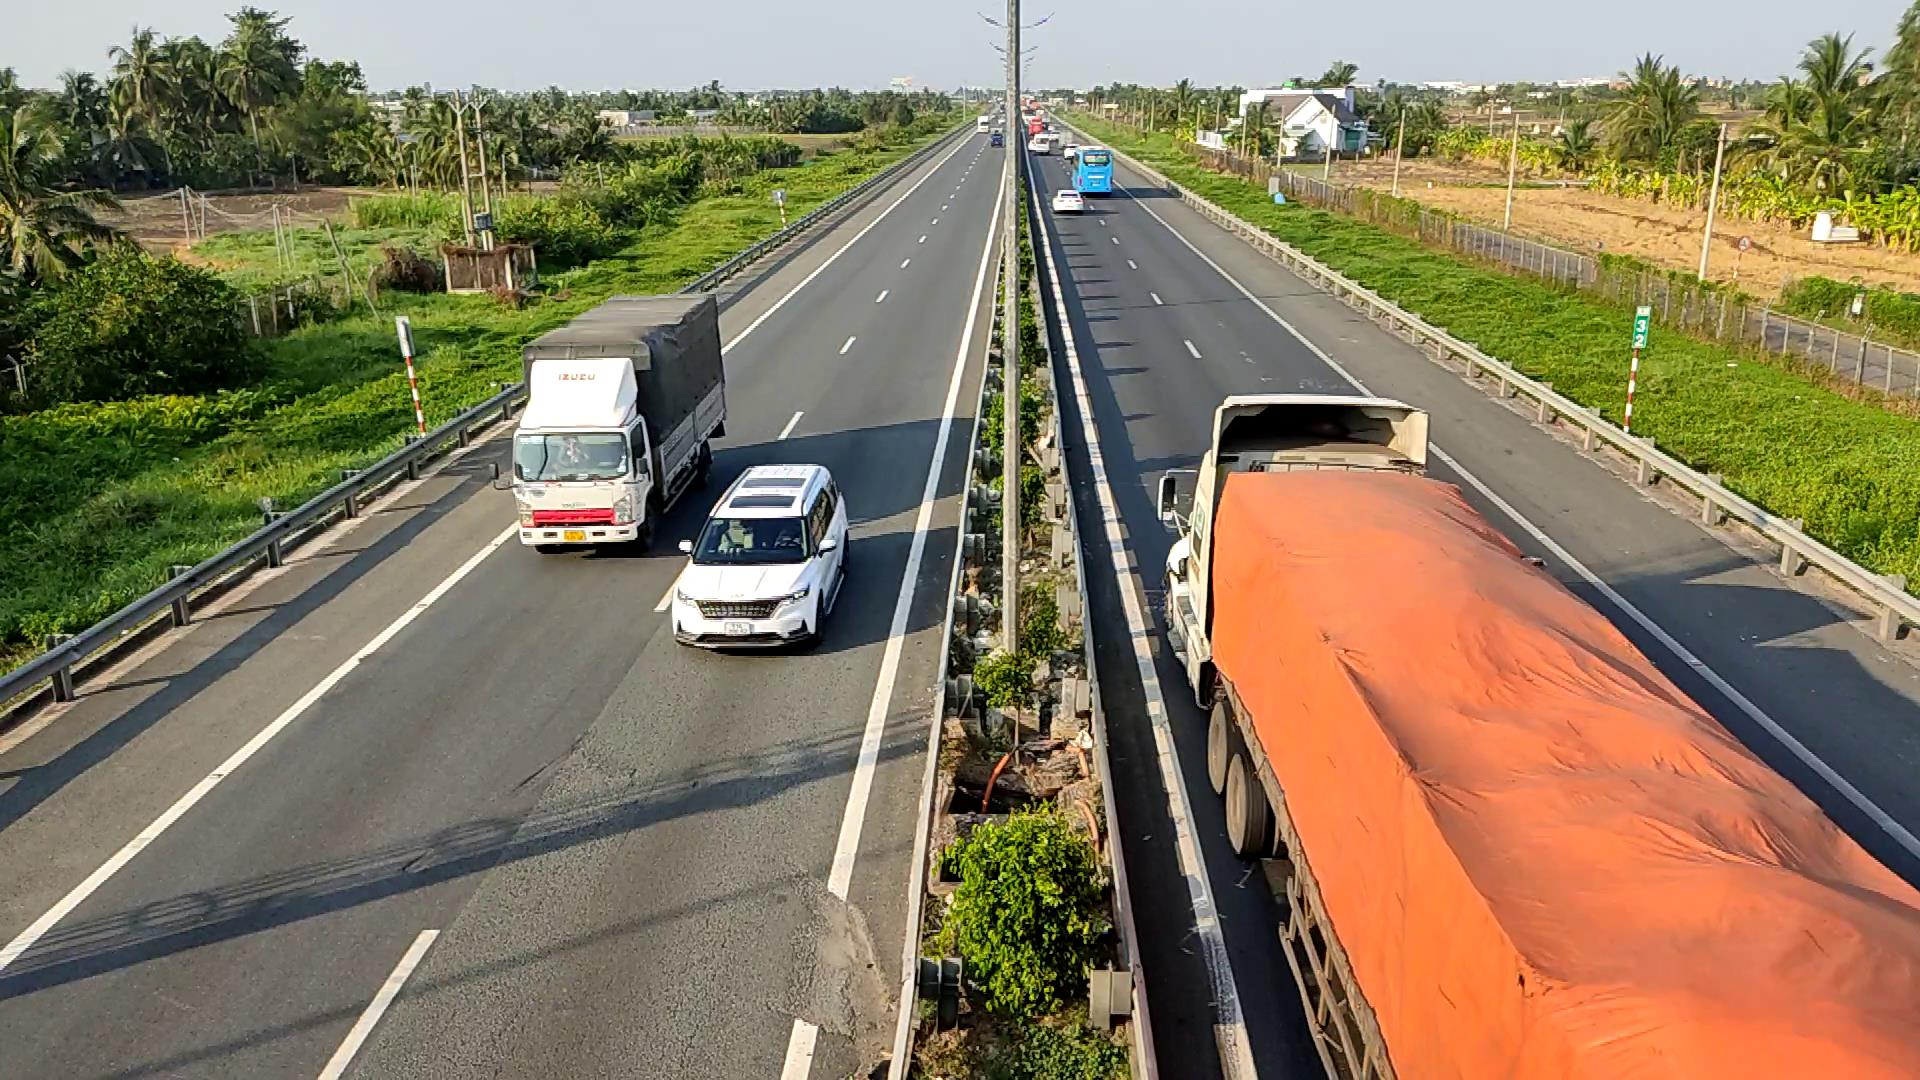car: (670, 463, 852, 650)
truck: (1155, 390, 1917, 1068), (509, 291, 729, 556)
